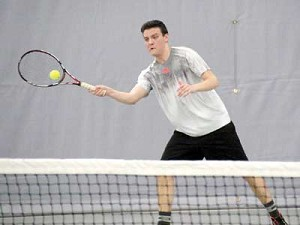tennis ball: (49, 71, 63, 82)
tennis player: (90, 16, 292, 225)
